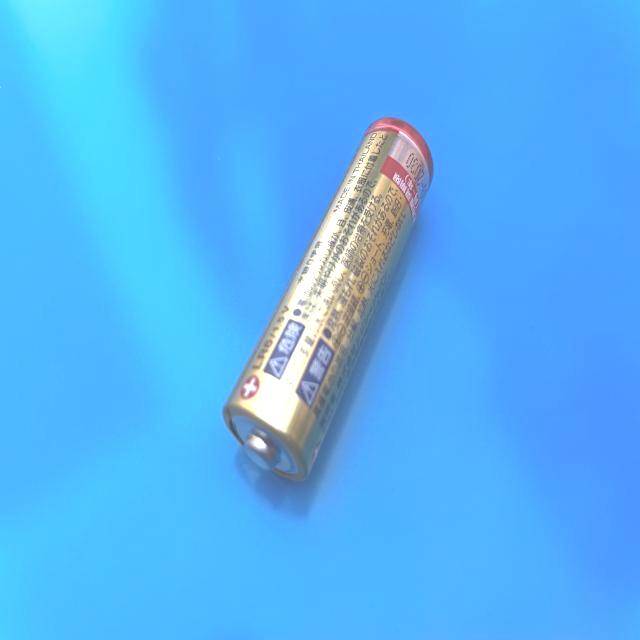AA: (220, 116, 436, 484)
